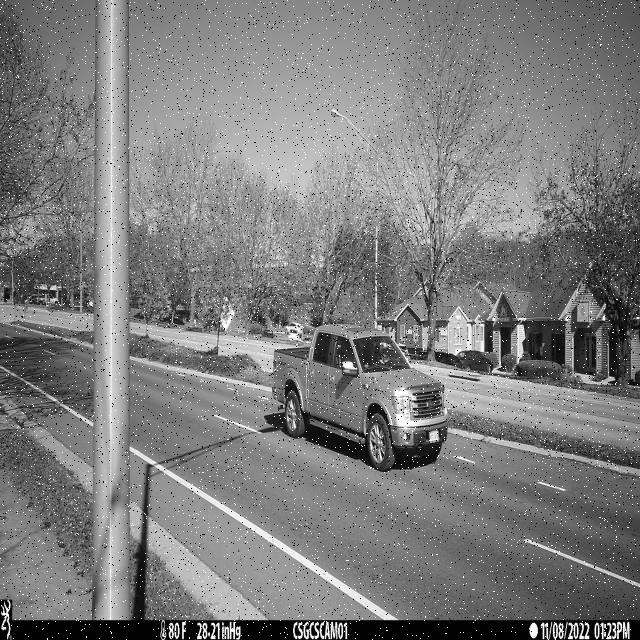Pickup: (271, 322, 448, 473)
